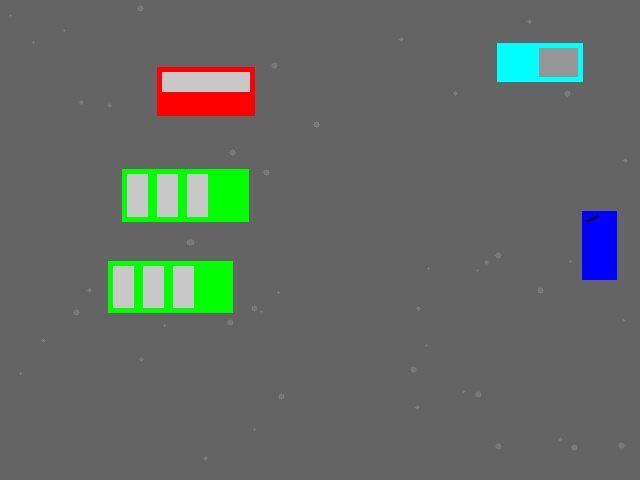bus: (122, 169, 248, 221), (108, 261, 232, 312)
car: (157, 67, 254, 115)
motorcycle: (582, 211, 616, 279)
truck: (497, 43, 582, 81)
